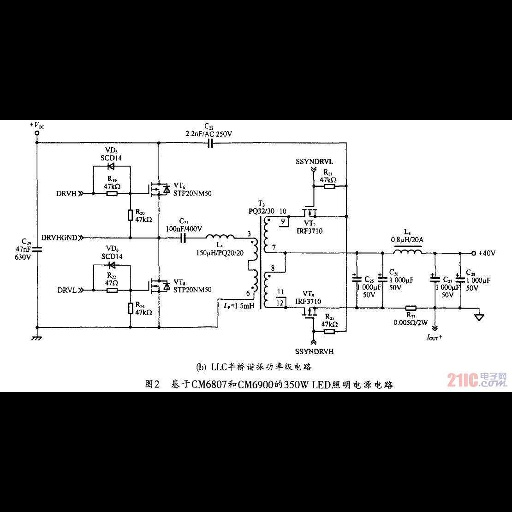capacitor: (30, 244, 43, 257), (204, 137, 216, 150), (177, 233, 190, 244)
firstpolarcapacitor: (349, 271, 364, 284), (426, 272, 442, 283), (375, 272, 390, 283), (455, 272, 466, 284)
firstresistance: (400, 303, 423, 312), (125, 301, 136, 317), (125, 207, 135, 222), (322, 182, 337, 191), (321, 328, 337, 336), (104, 190, 119, 197), (105, 287, 120, 294)
inductor: (391, 248, 425, 257), (203, 233, 237, 241)
mos: (148, 276, 160, 297), (301, 306, 320, 319), (147, 180, 159, 200), (300, 206, 319, 217)
seconddiode: (104, 161, 118, 172), (105, 260, 119, 271)
transformer: (252, 216, 272, 309)
